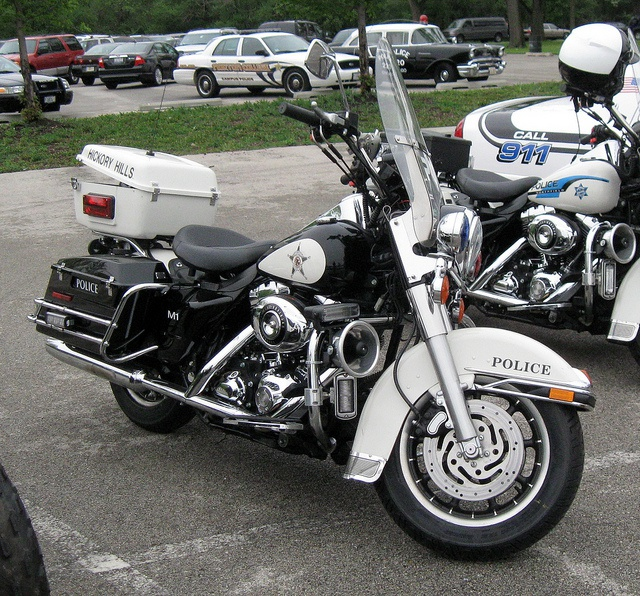non-vehicle: (26, 39, 594, 560), (422, 22, 640, 353)
